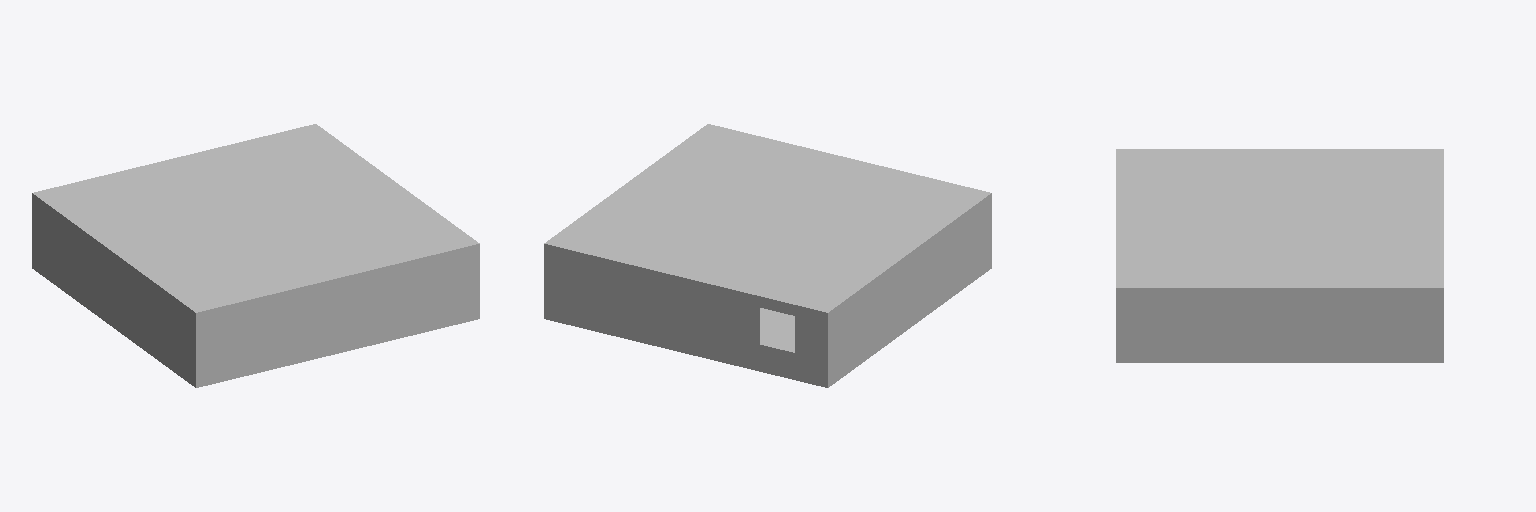
Rendered from interior-direct.obj.
The picture shows the model from 3 angles: view 1: azimuth 30°, elevation 25°; view 2: azimuth 150°, elevation 25°; view 3: azimuth 270°, elevation 25°; orthographic projection.
Visible parts, largest first — view 1: interior-direct; view 2: interior-direct; view 3: interior-direct.
Part boxes in pixels (left/top/right/bottom): interior-direct: left=32, top=124, right=479, bottom=387; interior-direct: left=544, top=124, right=991, bottom=387; interior-direct: left=1116, top=149, right=1443, bottom=362.
Size of the model in its own units: 40.2 by 10.2 by 40.2.